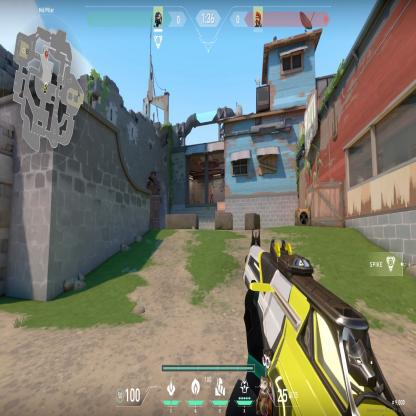enemy: (210, 186, 214, 204)
